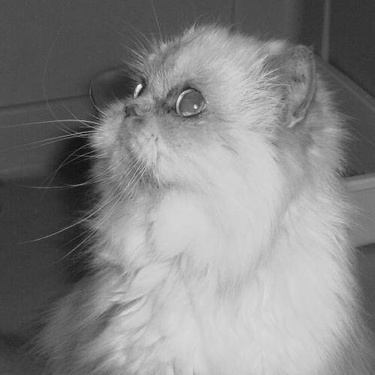cat: (34, 18, 365, 371)
